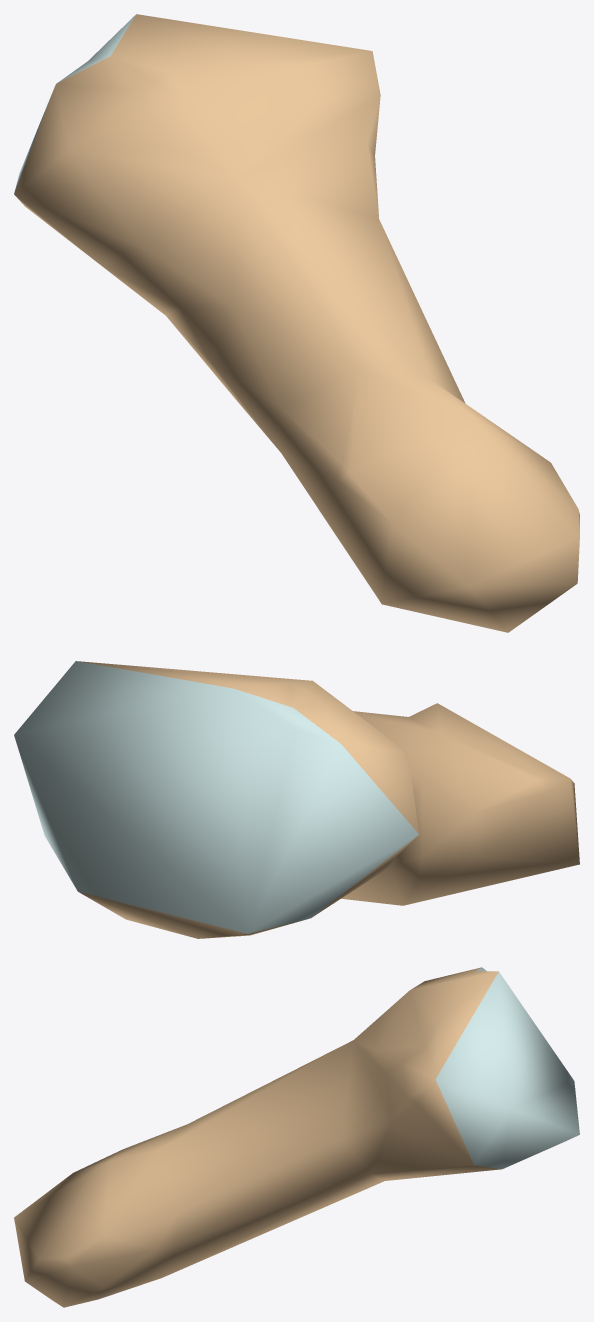
File: Distal_phalanx_fourth_finger_left.glb
3 renders of one model, top to bottom at view 1: azimuth 30°, elevation 25°; view 2: azimuth 150°, elevation 25°; view 3: azimuth 270°, elevation 25°, orthographic. The views are drawn at different scales.
Visible parts, largest first — view 1: Distal_phalanx_of_4th_finger.l_Generated_Mesh_From_X3D.725; view 2: Distal_phalanx_of_4th_finger.l_Generated_Mesh_From_X3D.725; view 3: Distal_phalanx_of_4th_finger.l_Generated_Mesh_From_X3D.725.
Part boxes in pixels (x1,y1,x2,y2): Distal_phalanx_of_4th_finger.l_Generated_Mesh_From_X3D.725: [14, 14, 579, 632]; Distal_phalanx_of_4th_finger.l_Generated_Mesh_From_X3D.725: [14, 661, 579, 938]; Distal_phalanx_of_4th_finger.l_Generated_Mesh_From_X3D.725: [14, 967, 579, 1307].
Bounding box in the file's own units: 0.00861 × 0.00961 × 0.0162.
